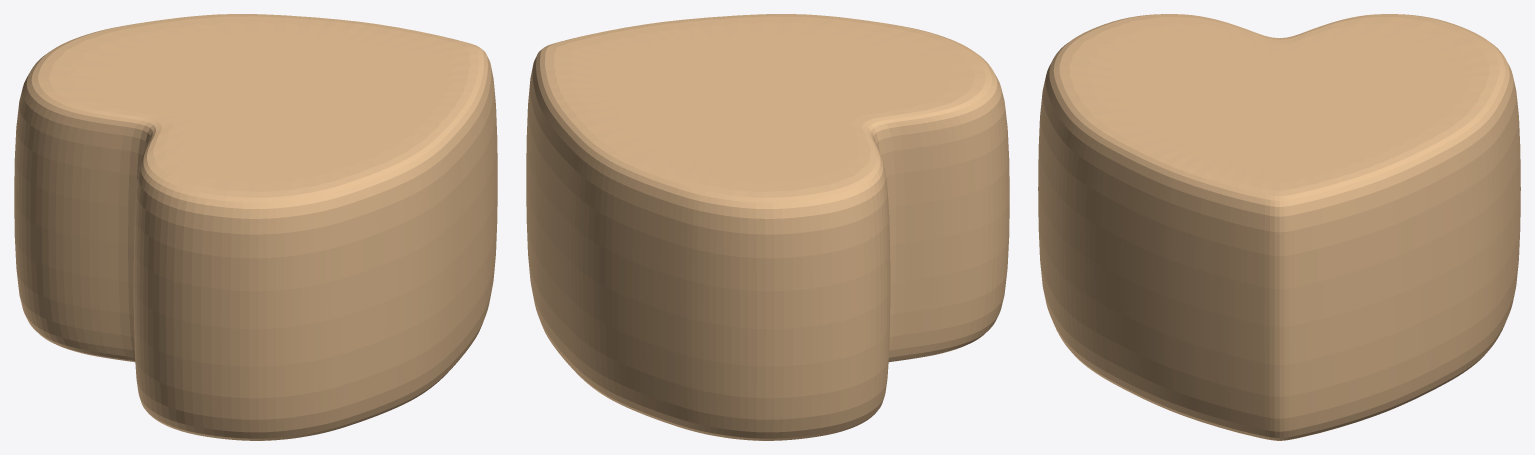
The model's file is CakeBigLayerGlaze.glb.
3 views of the same model, side by side, from view 1: azimuth 30°, elevation 25°; view 2: azimuth 150°, elevation 25°; view 3: azimuth 270°, elevation 25° (orthographic).
Visible parts, largest first — view 1: Cylinder.007; view 2: Cylinder.007; view 3: Cylinder.007.
Boxes of the visible parts, <box> form: Cylinder.007: <box>14,14,497,440</box>; Cylinder.007: <box>526,14,1009,440</box>; Cylinder.007: <box>1038,14,1520,440</box>.
Bounding box in the file's own units: 1.62 × 0.9364 × 1.66.
